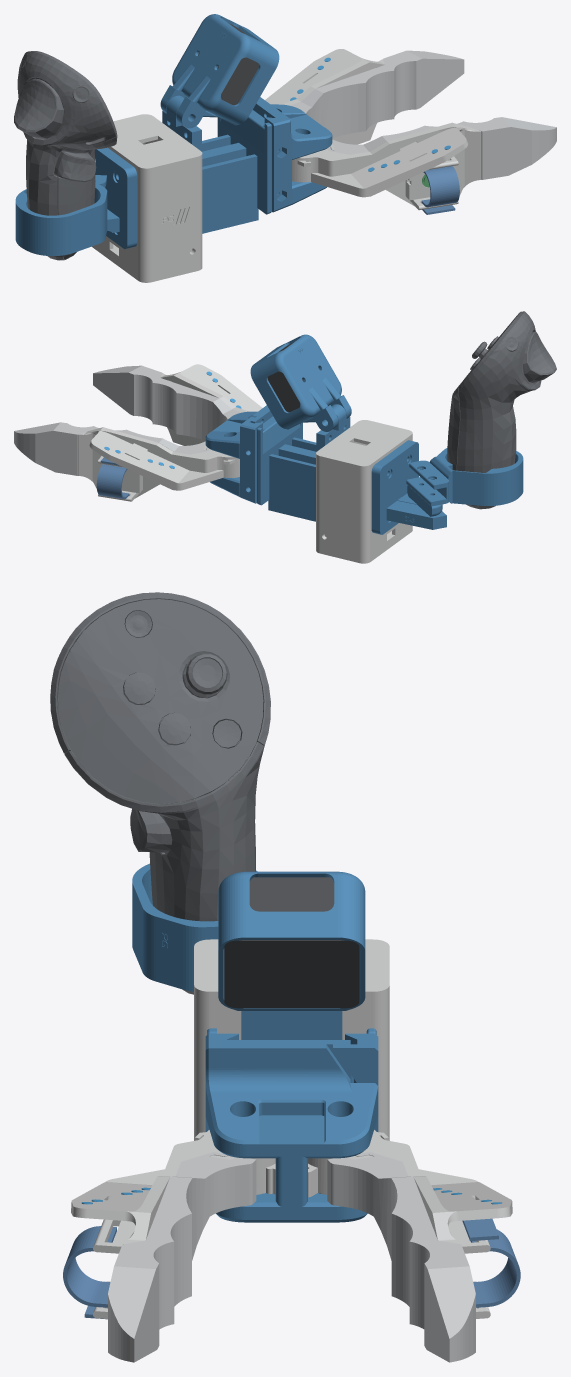
The model's file is chop-umi_right.glb.
The picture shows the model from 3 angles, top to bottom: view 1: azimuth 30°, elevation 25°; view 2: azimuth 150°, elevation 25°; view 3: azimuth 270°, elevation 25°; orthographic projection. The views are drawn at different scales.
Visible parts, largest first — view 1: quest_controller_envelope, ebox, jaw_right_dc_button, d405_frame, tip_tpu_left, d405_cup, tip_tpu_right, quest_support_right, chopstick_base_dc, quest_arm_right, jaw_left_dc, sleeve_strap_right (+2 smaller); view 2: quest_controller_envelope, ebox, jaw_left_dc, d405_frame, tip_tpu_right, d405_cup, quest_support_right, quest_arm_right, tip_tpu_left, jaw_right_dc_button, chopstick_base_dc, chopstick_clip_dc (+3 smaller); view 3: quest_controller_envelope, chopstick_base_dc, tip_tpu_left, tip_tpu_right, d405_envelope, d405_cup, ebox, jaw_right_dc_button, jaw_left_dc, quest_support_right, d405_frame, sleeve_strap_left (+2 smaller).
Boxes of the visible parts, x1,y1,x2,y2 form: quest_controller_envelope: (14,51,117,260); ebox: (95,114,202,279); jaw_right_dc_button: (292,122,481,210); d405_frame: (162,95,271,233); tip_tpu_left: (290,50,464,138); d405_cup: (160,14,279,128); tip_tpu_right: (327,117,556,179); quest_support_right: (15,175,107,256); chopstick_base_dc: (253,97,332,212); quest_arm_right: (95,147,137,248); jaw_left_dc: (265,49,384,144); sleeve_strap_right: (421,166,459,214); quest_controller_envelope: (447,311,556,509); ebox: (316,420,412,560); jaw_left_dc: (78,427,239,501); d405_frame: (257,404,350,521); tip_tpu_right: (93,365,240,440); d405_cup: (250,334,351,431); quest_support_right: (406,448,523,506); quest_arm_right: (371,440,446,534); tip_tpu_left: (14,422,209,475); jaw_right_dc_button: (160,364,262,445); chopstick_base_dc: (205,405,272,497); chopstick_clip_dc: (240,416,262,503); quest_controller_envelope: (50,592,270,994); chopstick_base_dc: (205,1033,378,1222); tip_tpu_left: (327,1152,475,1362); tip_tpu_right: (108,1152,256,1362); d405_envelope: (224,877,359,1008); d405_cup: (218,871,365,1010); ebox: (194,939,389,1140); jaw_right_dc_button: (71,1130,275,1318); jaw_left_dc: (308,1130,512,1318); quest_support_right: (132,863,257,991); d405_frame: (207,1011,376,1082); sleeve_strap_left: (462,1218,520,1307).
Size of the model in its own units: 0.3267 by 0.1528 by 0.1444.
